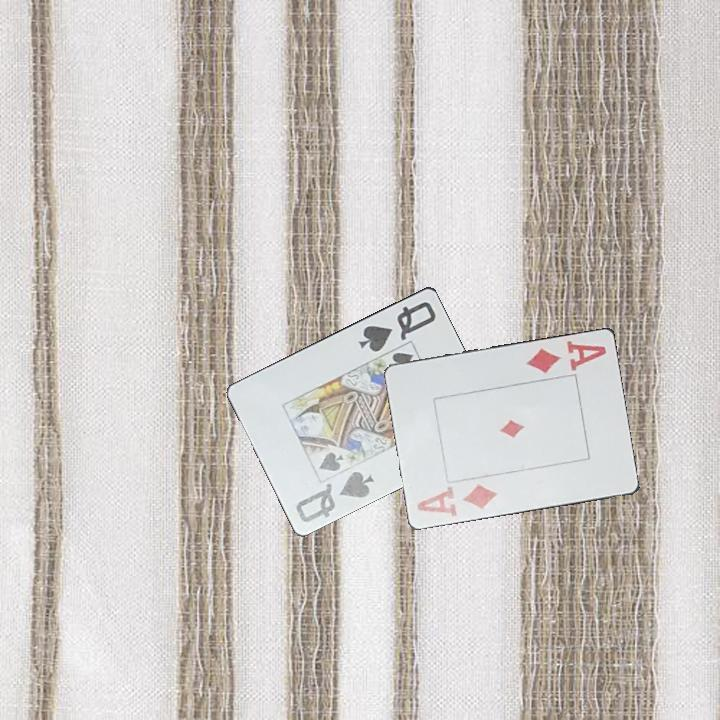Ad: (414, 479, 501, 520), (522, 337, 609, 376)
Qs: (292, 466, 377, 525), (355, 297, 439, 355)
